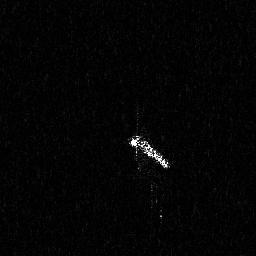ship: (126, 133, 171, 170)
